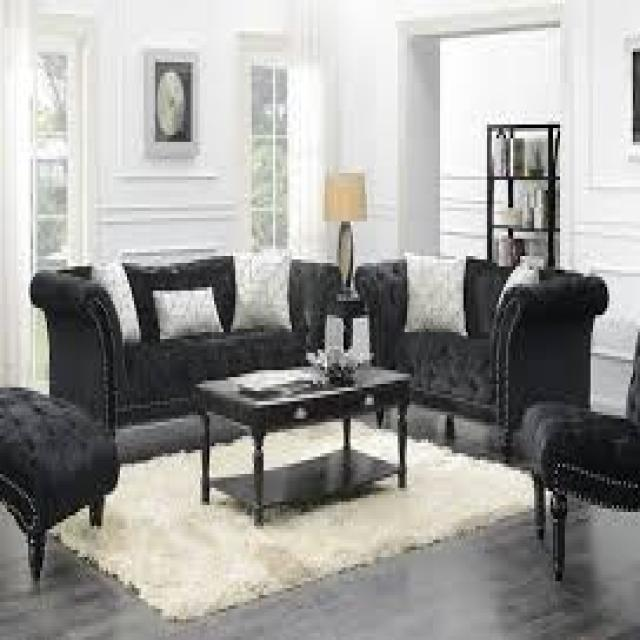Chair: (526, 328, 640, 581)
Lamp: (323, 156, 366, 285)
Sofa: (35, 235, 596, 461), (0, 372, 124, 588)
Table: (198, 358, 417, 515)
